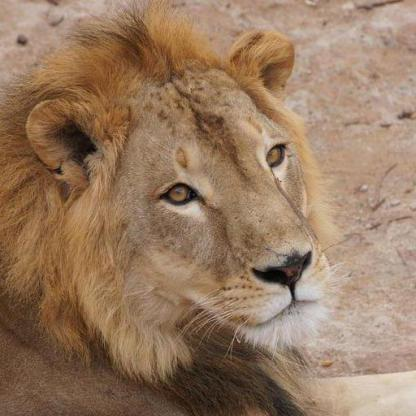lion: (24, 54, 328, 338)
